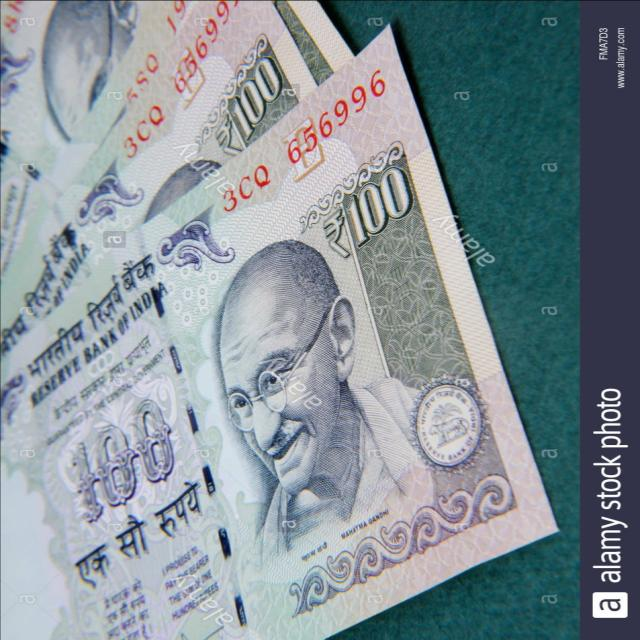100IndianRupees: (0, 15, 558, 640)
